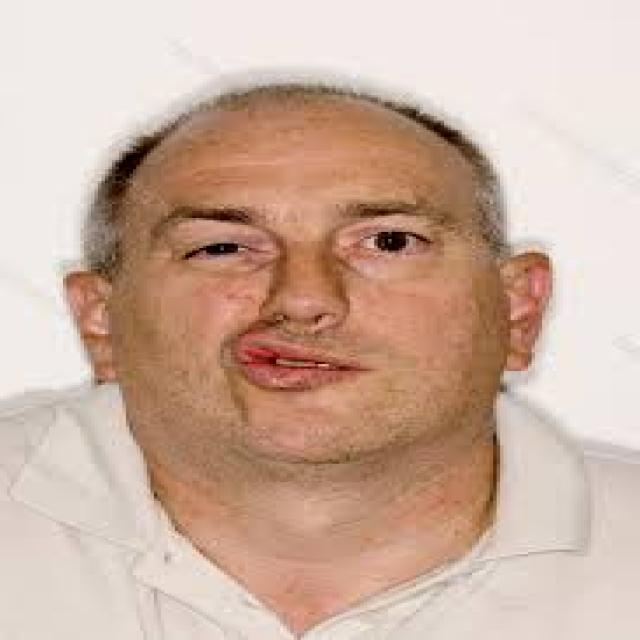stroke_face: (19, 76, 504, 529)
